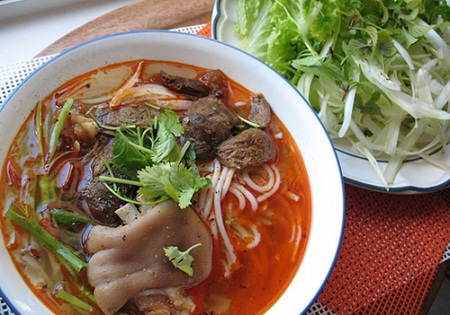beef: (179, 91, 234, 156), (92, 101, 172, 136), (219, 123, 273, 170)
onion: (117, 135, 191, 199), (24, 110, 59, 199)
pork: (67, 206, 218, 315)
